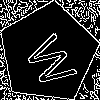W: (23, 28, 85, 91)
